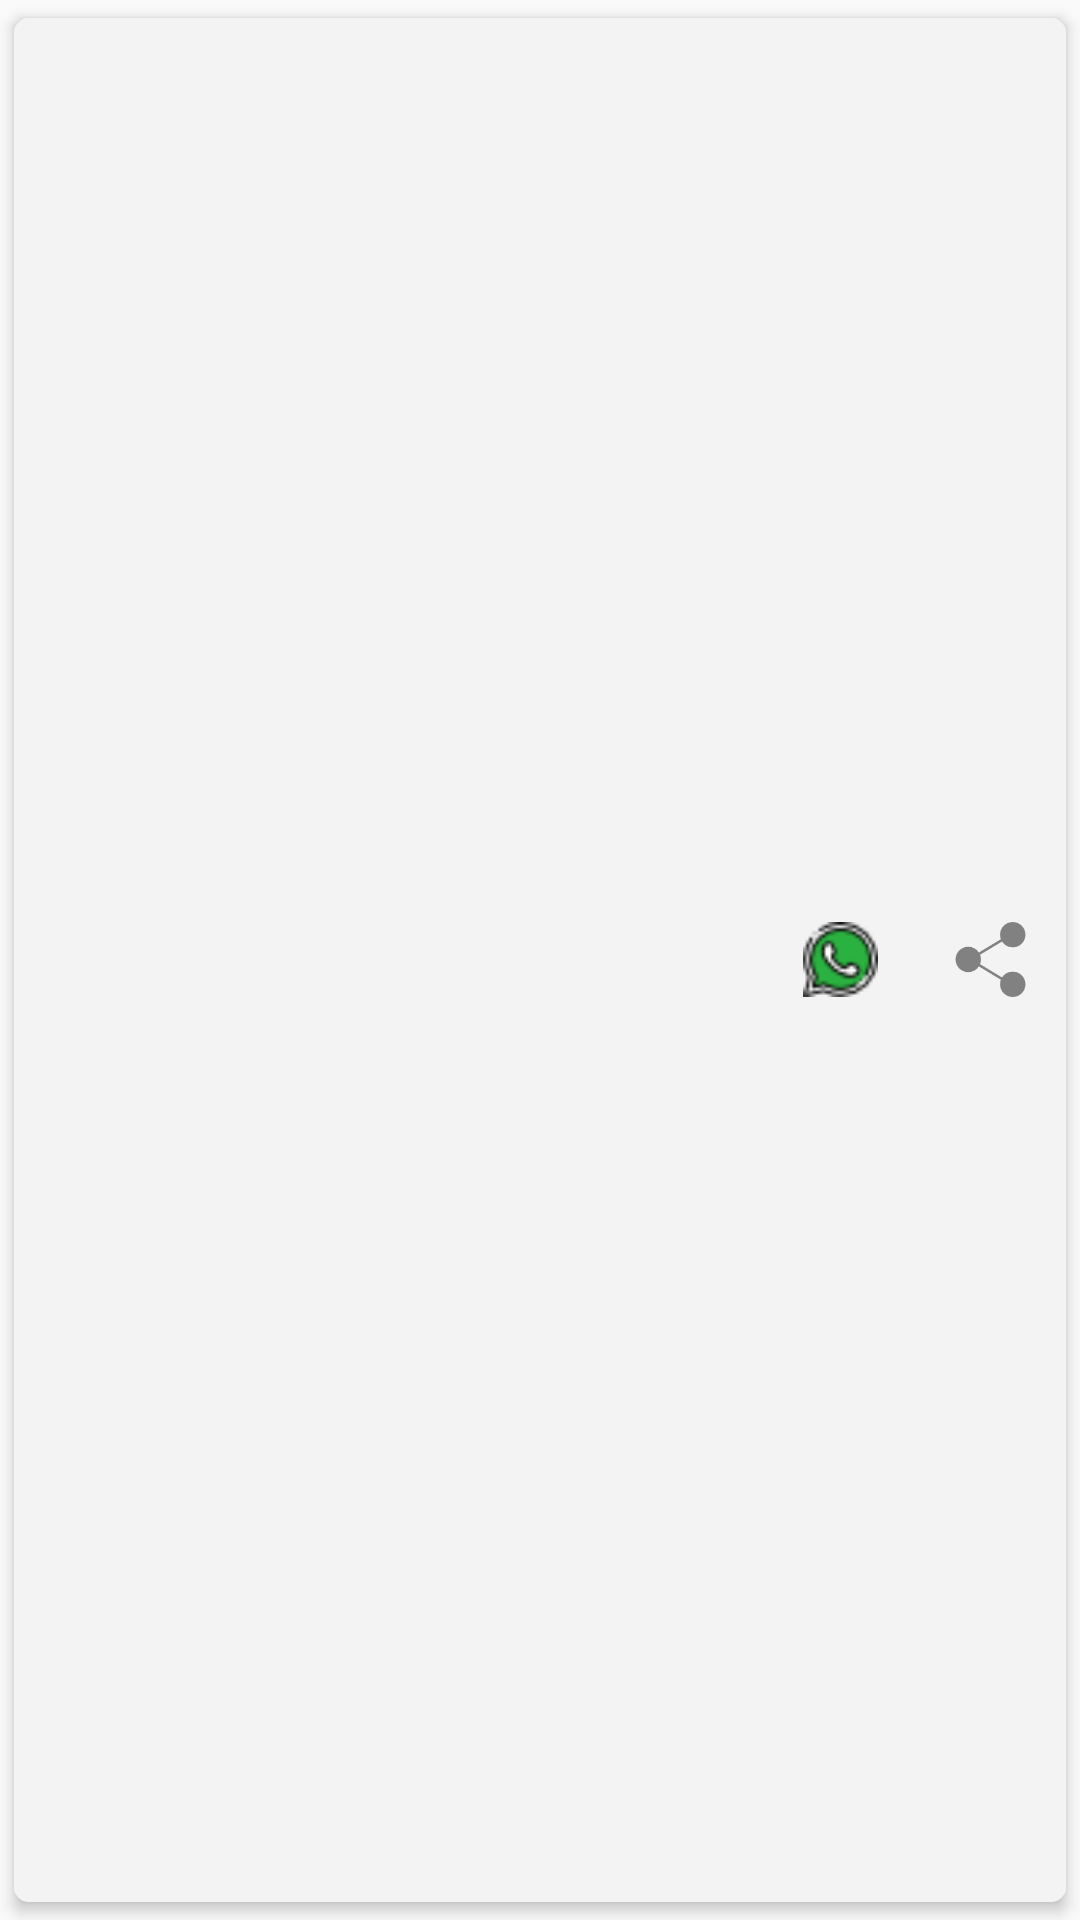

Where icons sit on this 1080w x 1920h app screen, as (x1, y1, x2, y2):
sharep: (955, 922, 1026, 997)
